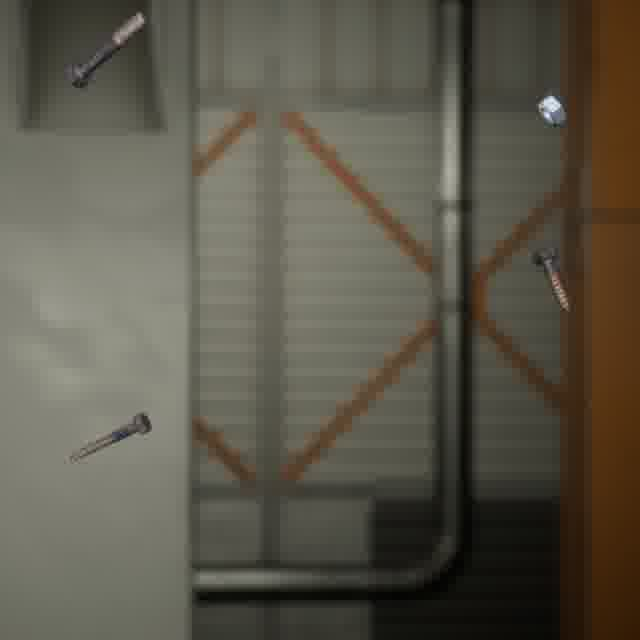bolt: (59, 7, 153, 93), (63, 408, 155, 466), (527, 242, 577, 316)
nut: (533, 90, 571, 130)
